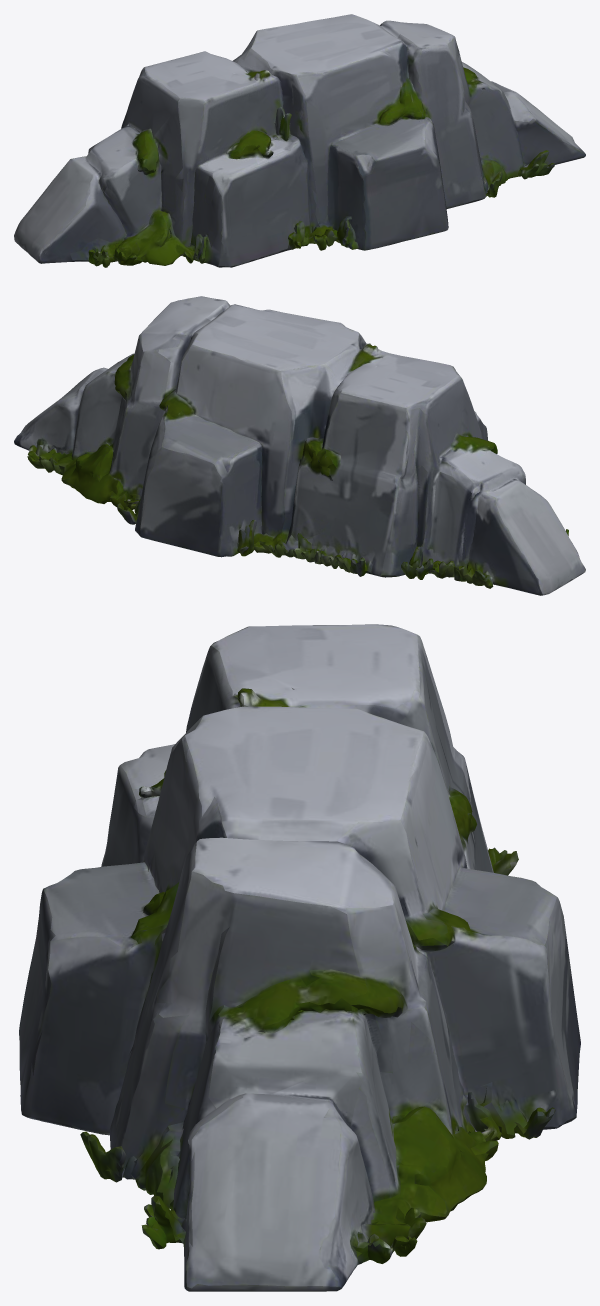
The model's file is hill_ridge_v1_boulders.glb.
3 views of the same model, one above another, from view 1: azimuth 30°, elevation 25°; view 2: azimuth 150°, elevation 25°; view 3: azimuth 270°, elevation 25° (orthographic). The views are drawn at different scales.
Visible parts, largest first — view 1: geometry_0; view 2: geometry_0; view 3: geometry_0.
Part boxes in pixels (x1=…): geometry_0: x1=14, y1=14, x2=585, y2=267; geometry_0: x1=14, y1=296, x2=585, y2=595; geometry_0: x1=19, y1=624, x2=580, y2=1291.
Bounding box in the file's own units: 1.2 × 0.3381 × 0.5616.
1 material, 1 textured.
